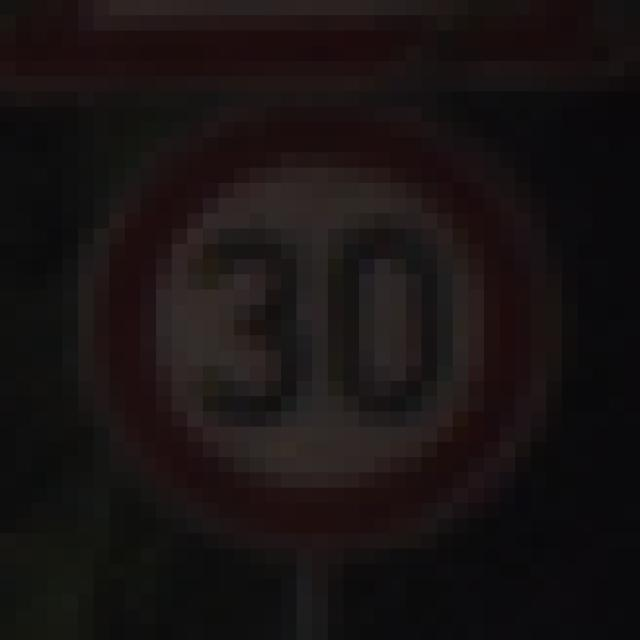Speed Limit -30-: (70, 84, 539, 556)
